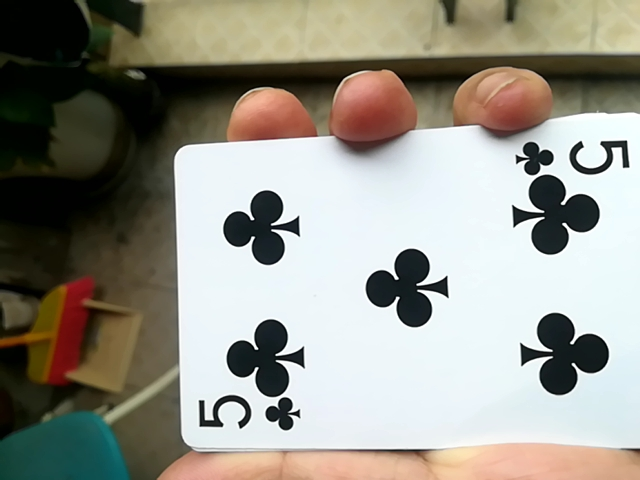mh 5: (163, 119, 633, 449)
